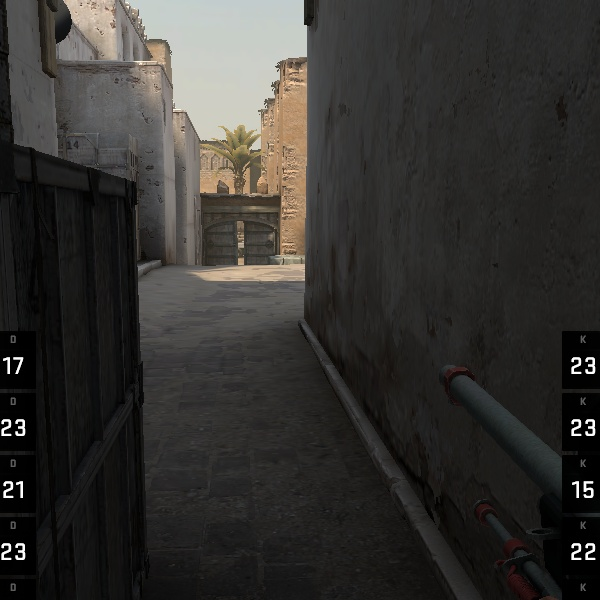ct_body: (2, 254, 165, 600)
